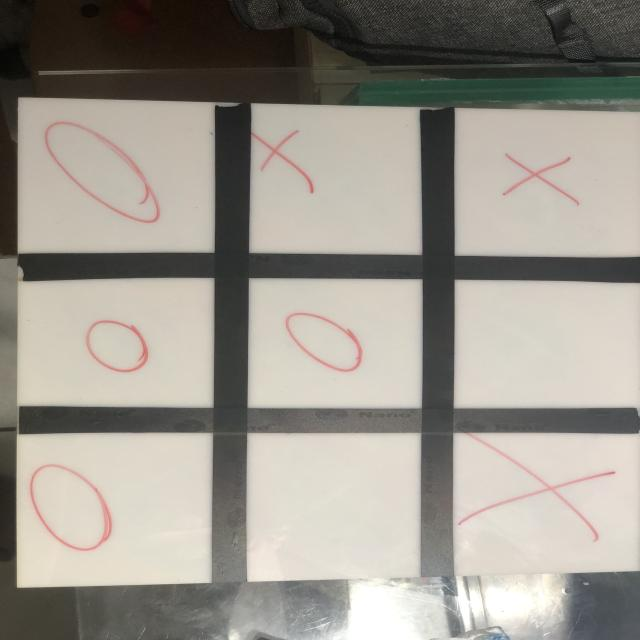null: (245, 429, 421, 579), (457, 279, 638, 410)
o: (43, 117, 173, 229), (26, 462, 121, 553), (283, 308, 367, 376), (79, 318, 148, 373)
table: (20, 95, 640, 587)
x: (459, 434, 605, 543), (249, 120, 320, 193), (502, 150, 579, 208)
